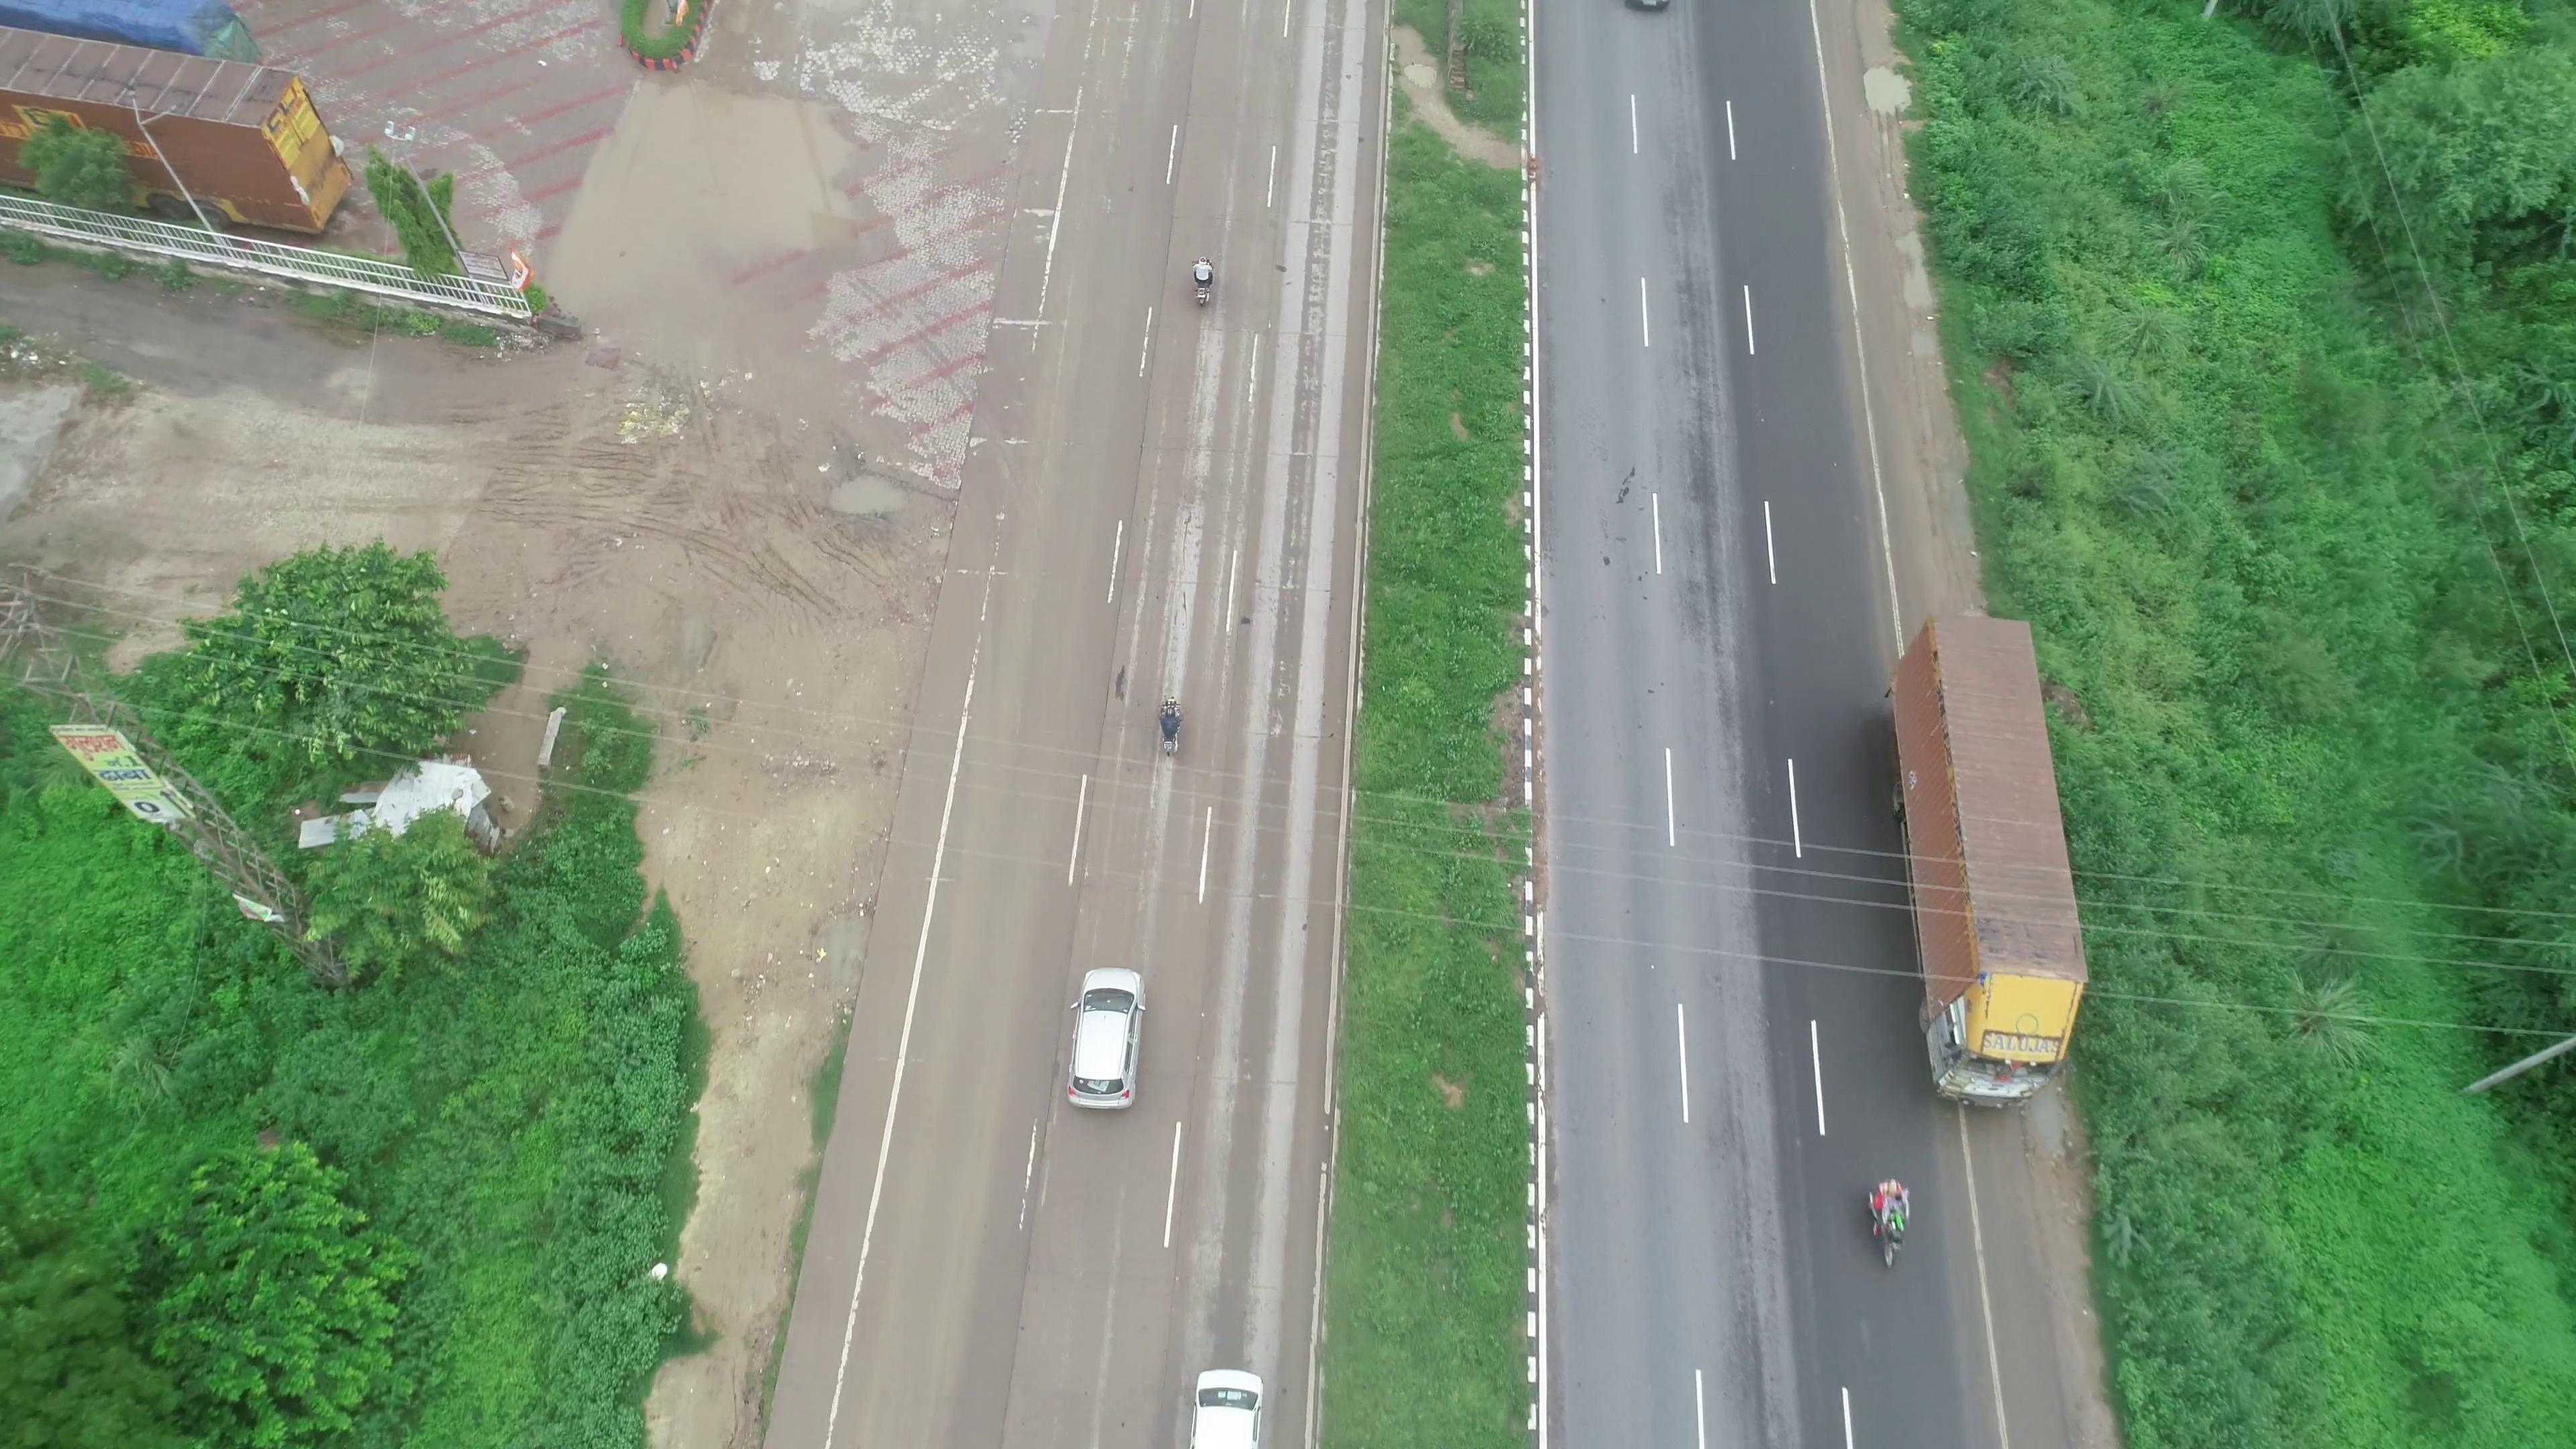Muddy_road: (860, 1024, 1019, 1376), (950, 649, 1095, 991)
